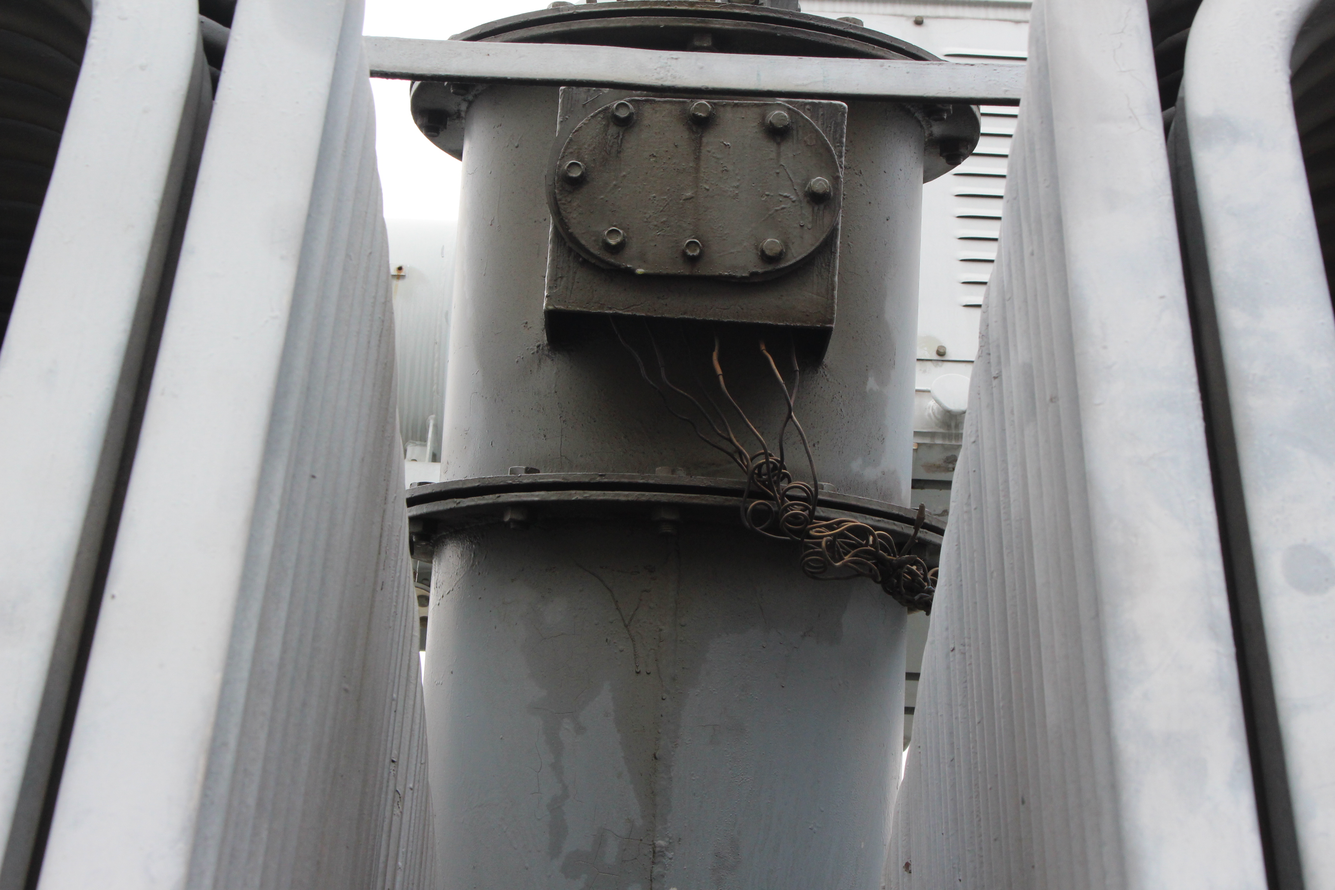sly_bjbmyw: (306, 67, 934, 890)
